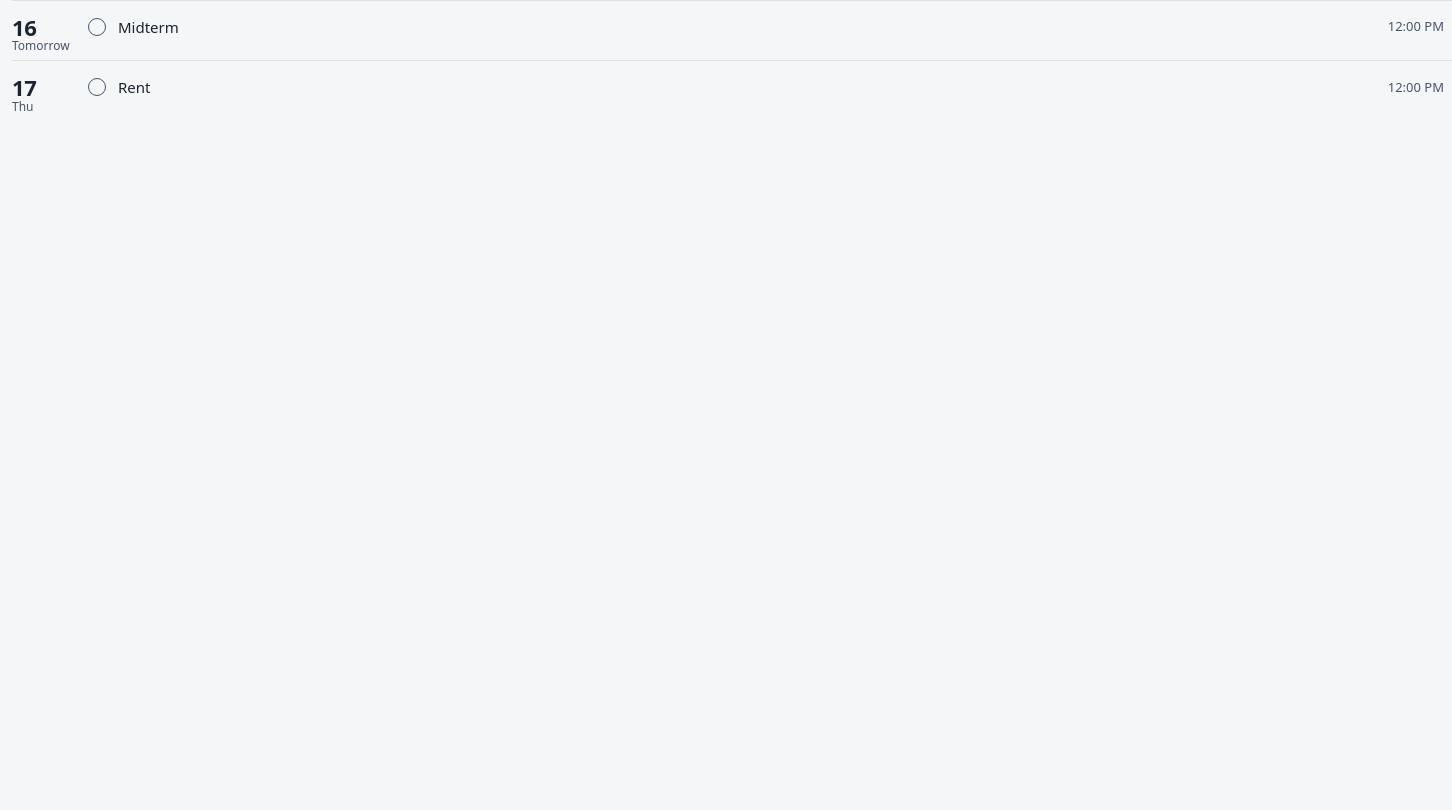
Test case: AC-22.3 opening one item does not open another
Click the button "Midterm" at (148, 27), box [118, 16, 1376, 38]
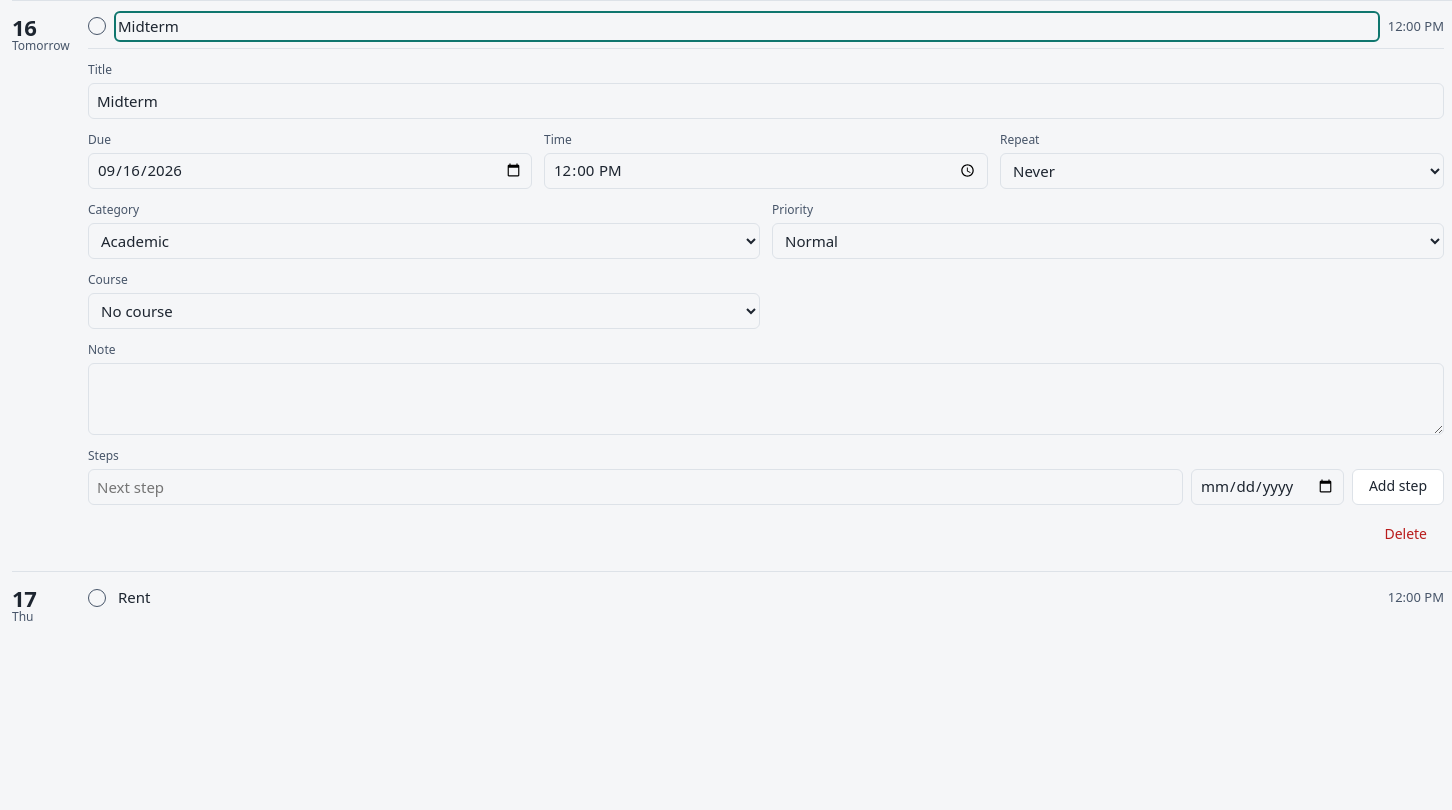
Expected: the dropdown named "Course for Midterm" is shown, [88, 292, 760, 328]
